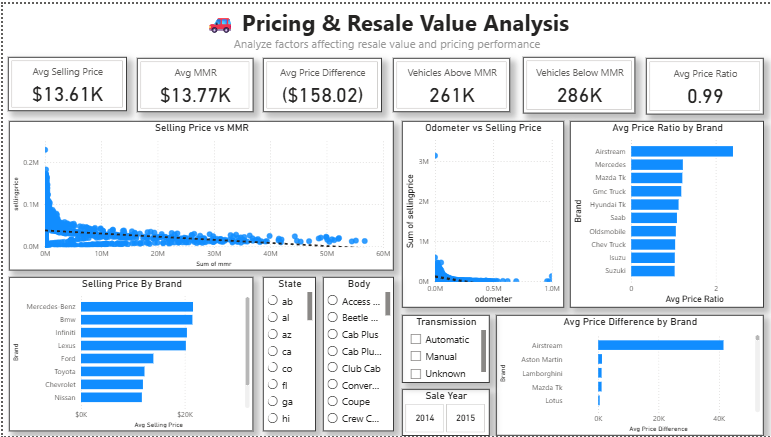

The dashboard page shown, as its layout file describes it:
{"tool":"powerbi","page":{"name":"Pricing And Resale Analysis","canvas":[1280,720],"ordinal":2},"visuals":[{"type":"textbox","box":[0,0,1280,85.3],"z":0},{"type":"cardVisual","fields":{"Data":["cleaned_vehicle_sales.Avg Selling Price"]},"box":[9.2,89,197.7,90.3],"z":1000},{"type":"cardVisual","fields":{"Data":["cleaned_vehicle_sales.Avg MMR"]},"box":[222.5,90.3,193.7,90.3],"z":2000},{"type":"cardVisual","fields":{"Data":["cleaned_vehicle_sales.Avg Price Difference"]},"box":[433.3,90.3,197.7,90.3],"z":3000},{"type":"cardVisual","fields":{"Data":["cleaned_vehicle_sales.Vehicles Above MMR"]},"box":[650.6,90.3,195.1,90.3],"z":4000},{"type":"cardVisual","fields":{"Data":["cleaned_vehicle_sales.Vehicles Below MMR"]},"box":[866.6,89,187.2,94.3],"z":5000},{"type":"cardVisual","fields":{"Data":["cleaned_vehicle_sales.Avg Price Ratio"]},"box":[1070.8,90.3,196.4,94.3],"z":6000},{"type":"scatterChart","title":"Selling Price vs MMR","fields":{"X":["Sum(cleaned_vehicle_sales.mmr)"],"Y":["cleaned_vehicle_sales.sellingprice"]},"box":[9.6,195.4,641.4,249.1],"z":7000},{"type":"clusteredBarChart","title":"Selling Price By Brand","fields":{"Category":["cleaned_vehicle_sales.make"],"Y":["cleaned_vehicle_sales.Avg Selling Price"]},"box":[9.6,455.6,407.4,257.4],"z":8000},{"type":"scatterChart","title":" Odometer vs Selling Price","fields":{"X":["cleaned_vehicle_sales.odometer"],"Y":["Sum(cleaned_vehicle_sales.sellingprice)"]},"box":[664.8,195.4,269.8,311.1],"z":9000},{"type":"barChart","title":"Avg Price Ratio by Brand","fields":{"Category":["cleaned_vehicle_sales.make"],"Y":["cleaned_vehicle_sales.Avg Price Ratio"]},"box":[944.2,195.4,323.4,311.1],"z":10000},{"type":"barChart","title":"Avg Price Difference by Brand","fields":{"Category":["cleaned_vehicle_sales.make"],"Y":["cleaned_vehicle_sales.Avg Price Difference"]},"box":[821.7,518.9,445.9,200.9],"z":11000},{"type":"advancedSlicerVisual","title":"Sale Year","fields":{"Values":["cleaned_vehicle_sales.sale_year"]},"box":[664.8,641.4,145.9,78.5],"z":12000},{"type":"listSlicer","title":"State","fields":{"Values":["cleaned_vehicle_sales.state"]},"box":[433.5,455.6,88.1,257.4],"z":13000},{"type":"slicer","title":"Transmission","fields":{"Values":["cleaned_vehicle_sales.transmission"]},"box":[664.8,518.9,145.9,112.9],"z":14000},{"type":"listSlicer","title":"Body","fields":{"Values":["cleaned_vehicle_sales.body"]},"box":[532.6,455.6,118.4,257.4],"z":15000}]}

Visuals, with their boxes in screenshot pixels (x1, y1, x2, y2), scaled from the page's 1280x720 canvas onto the 771x437 screenshot:
textbox: box=[0, 0, 770, 52]
cardVisual - cleaned_vehicle_sales.Avg Selling Price: box=[6, 54, 125, 109]
cardVisual - cleaned_vehicle_sales.Avg MMR: box=[134, 55, 251, 110]
cardVisual - cleaned_vehicle_sales.Avg Price Difference: box=[261, 55, 380, 110]
cardVisual - cleaned_vehicle_sales.Vehicles Above MMR: box=[392, 55, 509, 110]
cardVisual - cleaned_vehicle_sales.Vehicles Below MMR: box=[522, 54, 635, 111]
cardVisual - cleaned_vehicle_sales.Avg Price Ratio: box=[645, 55, 763, 112]
"Selling Price vs MMR" scatterChart: box=[6, 119, 392, 270]
"Selling Price By Brand" clusteredBarChart: box=[6, 277, 251, 433]
" Odometer vs Selling Price" scatterChart: box=[400, 119, 563, 307]
"Avg Price Ratio by Brand" barChart: box=[569, 119, 764, 307]
"Avg Price Difference by Brand" barChart: box=[495, 315, 764, 436]
"Sale Year" advancedSlicerVisual: box=[400, 389, 488, 436]
"State" listSlicer: box=[261, 277, 314, 433]
"Transmission" slicer: box=[400, 315, 488, 383]
"Body" listSlicer: box=[321, 277, 392, 433]
